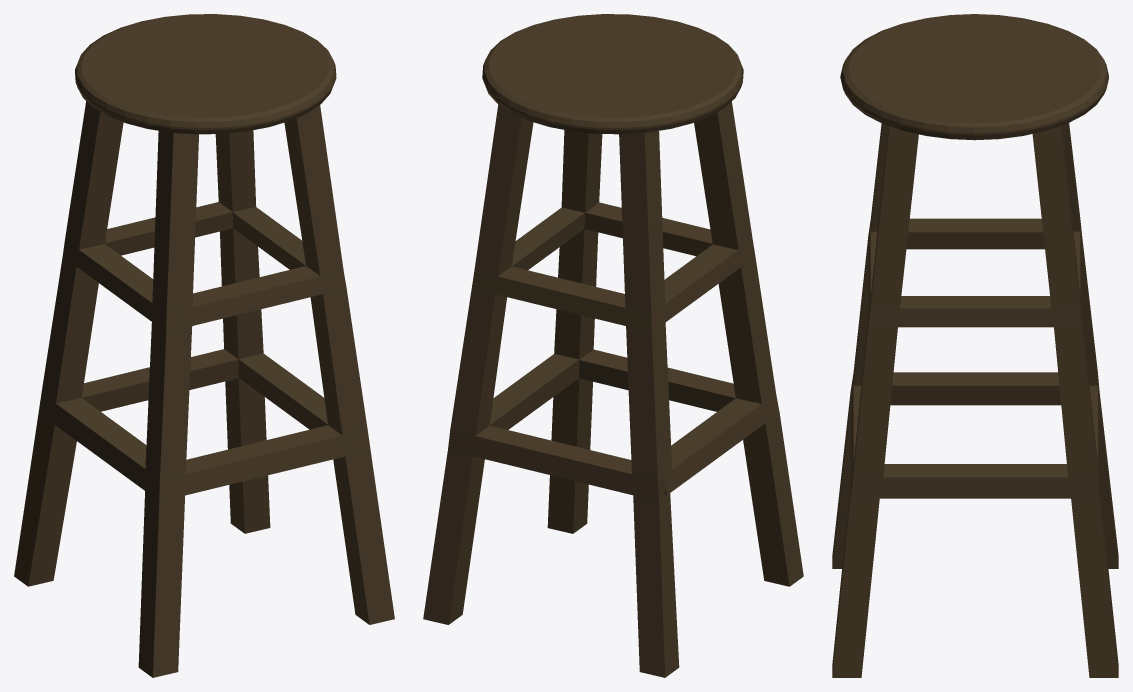
Rendered from Stool.glb.
3 views of the same model, side by side, from view 1: azimuth 30°, elevation 25°; view 2: azimuth 150°, elevation 25°; view 3: azimuth 270°, elevation 25° (orthographic). The views are drawn at different scales.
Visible parts, largest first — view 1: Cube, Cube.001, Cylinder, Cube.003, Cube.002; view 2: Cube, Cube.003, Cylinder, Cube.002, Cube.001; view 3: Cube.001, Cylinder, Cube.002, Cube, Cube.003.
Part boxes in pixels (x1,y1,x2,y2): Cube: (46,131,345,677); Cube.001: (179,105,394,624); Cylinder: (75,14,336,134); Cube.003: (14,101,238,586); Cube.002: (105,130,270,533); Cube: (579,101,803,586); Cube.003: (473,131,679,677); Cylinder: (482,14,743,134); Cube.002: (423,104,638,624); Cube.001: (481,130,712,533); Cube.001: (832,126,1086,677); Cylinder: (840,14,1108,140); Cube.002: (1032,125,1118,677); Cube: (832,123,1061,568); Cube.003: (1062,123,1118,568).
Size of the model in its own units: 1.59 by 3.34 by 1.58.
